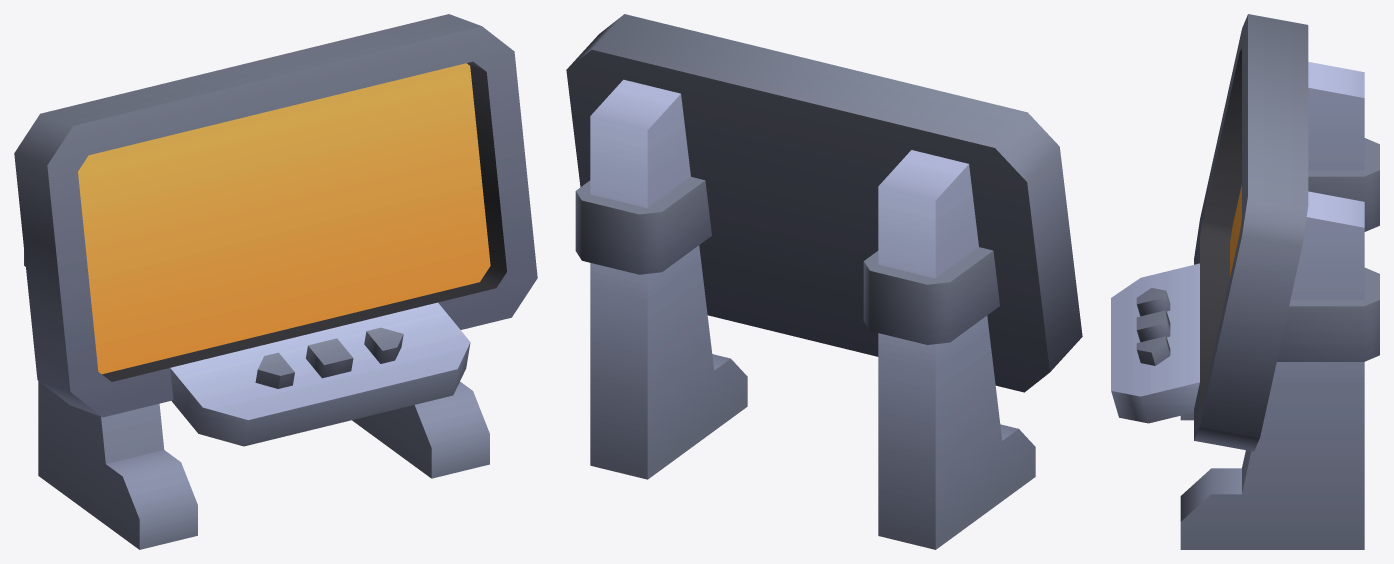
File: station.computer_screen.glb
3 views of the same model, side by side, from view 1: azimuth 30°, elevation 25°; view 2: azimuth 150°, elevation 25°; view 3: azimuth 270°, elevation 25° (orthographic). The views are drawn at different scales.
Visible parts, largest first — view 1: computer-screen; view 2: computer-screen; view 3: computer-screen.
Boxes of the visible parts, box(x1,y1,x2,y2) form: computer-screen: box(14, 14, 537, 549); computer-screen: box(566, 14, 1082, 549); computer-screen: box(1111, 14, 1379, 549).
Size of the model in its own units: 1.38 by 1.14 by 0.7568.
Materials: 1 (1 with a texture image).
